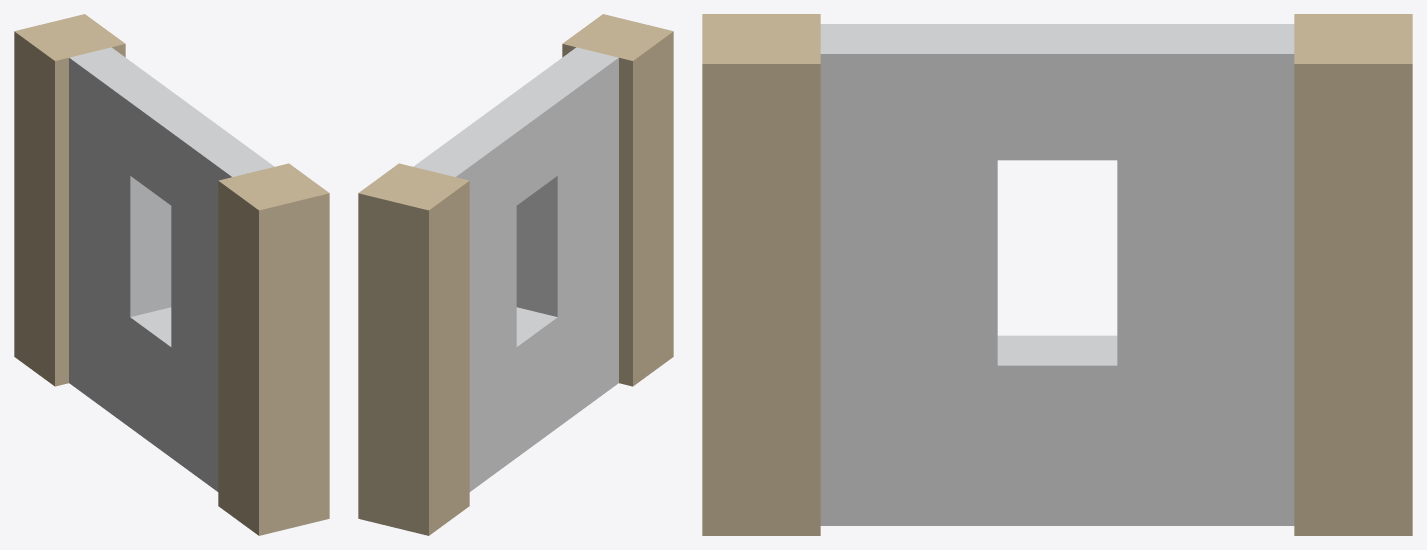
File: Wood_Window_Square_01.glb
3 views of the same model, side by side, from view 1: azimuth 30°, elevation 25°; view 2: azimuth 150°, elevation 25°; view 3: azimuth 270°, elevation 25° (orthographic). The views are drawn at different scales.
Parts seen in each view (by area): view 1: Wood_Window_Square_01; view 2: Wood_Window_Square_01; view 3: Wood_Window_Square_01.
Boxes of the visible parts, x1,y1,x2,y2 form: Wood_Window_Square_01: (14,14,329,535); Wood_Window_Square_01: (358,14,673,535); Wood_Window_Square_01: (702,14,1412,535).
Size of the model in its own units: 0.5001 by 2.2 by 3.
